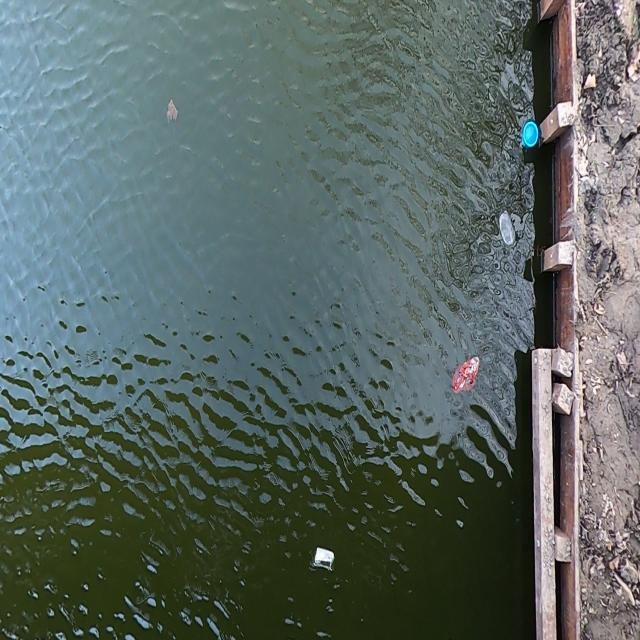Autre plastique: (496, 202, 520, 250), (519, 119, 540, 155)
Sac plastique: (450, 353, 482, 401)
